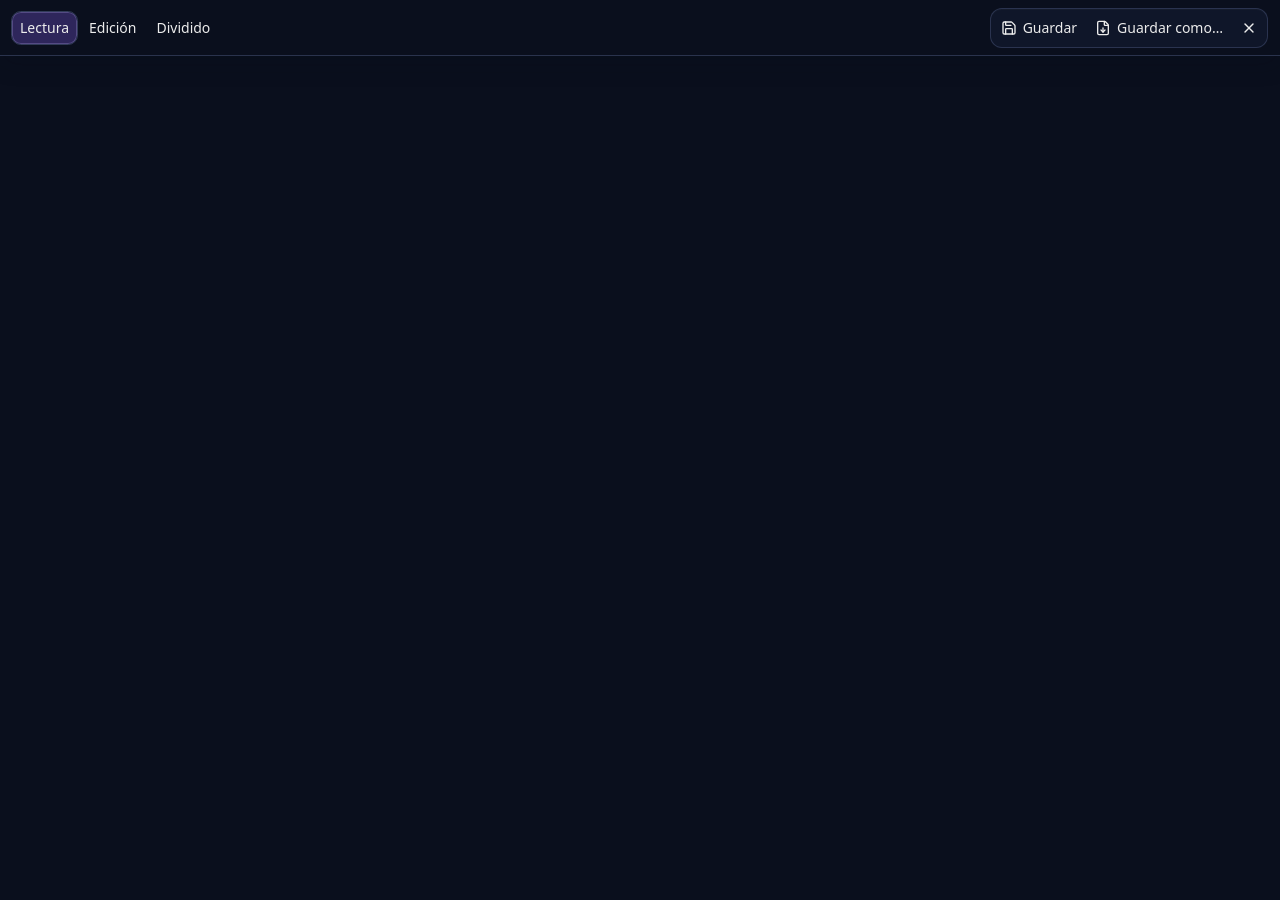
Scenario: Guardar como… (Fase 17) › Markdown: guarda el texto actual pidiendo destino (nuevoDestino)
This screenshot has width=1280, height=900.
Click the button "Guardar como…" at [1159, 28], box [1087,12,1231,44]
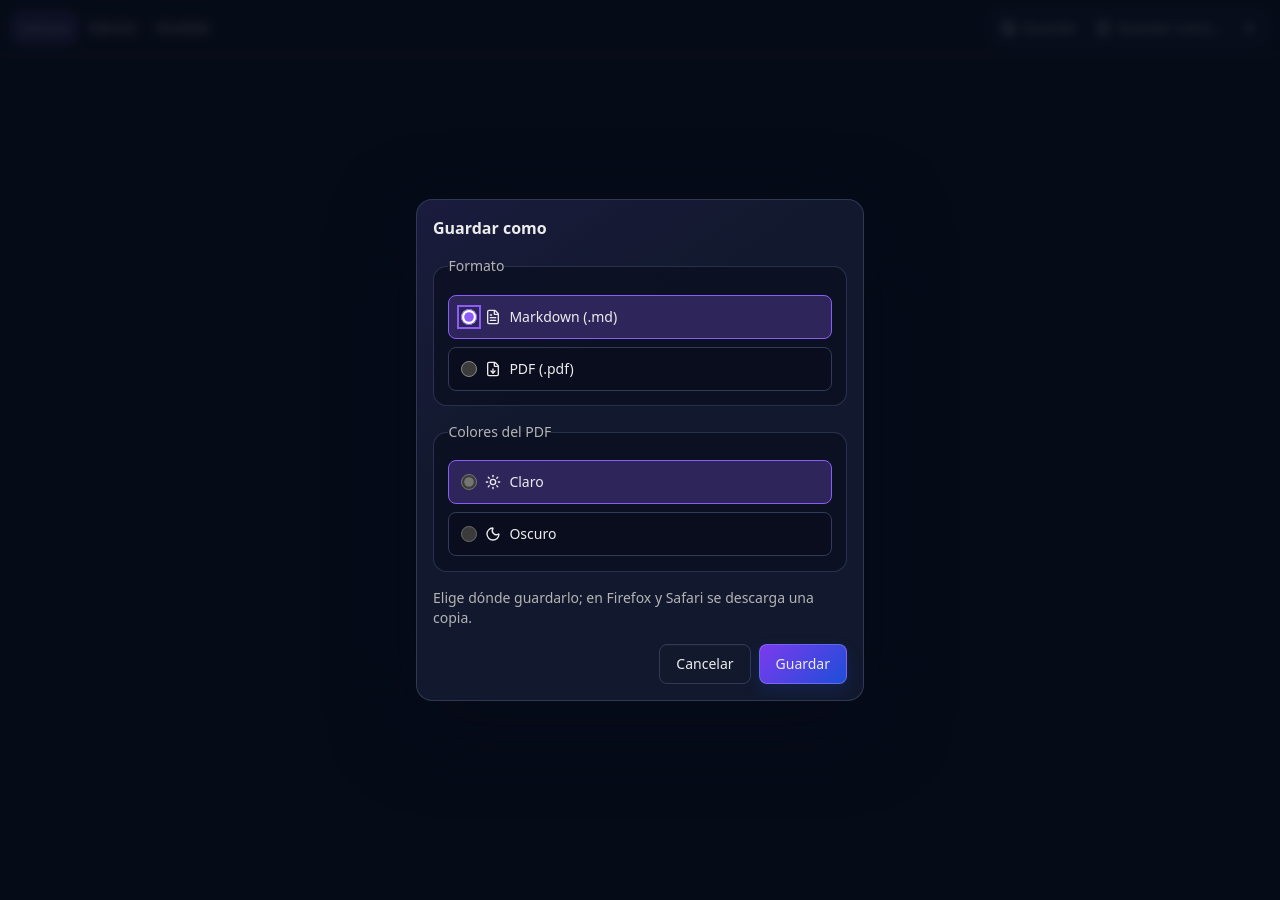
Click the button "Guardar" at [803, 664], box [758,644,847,684]
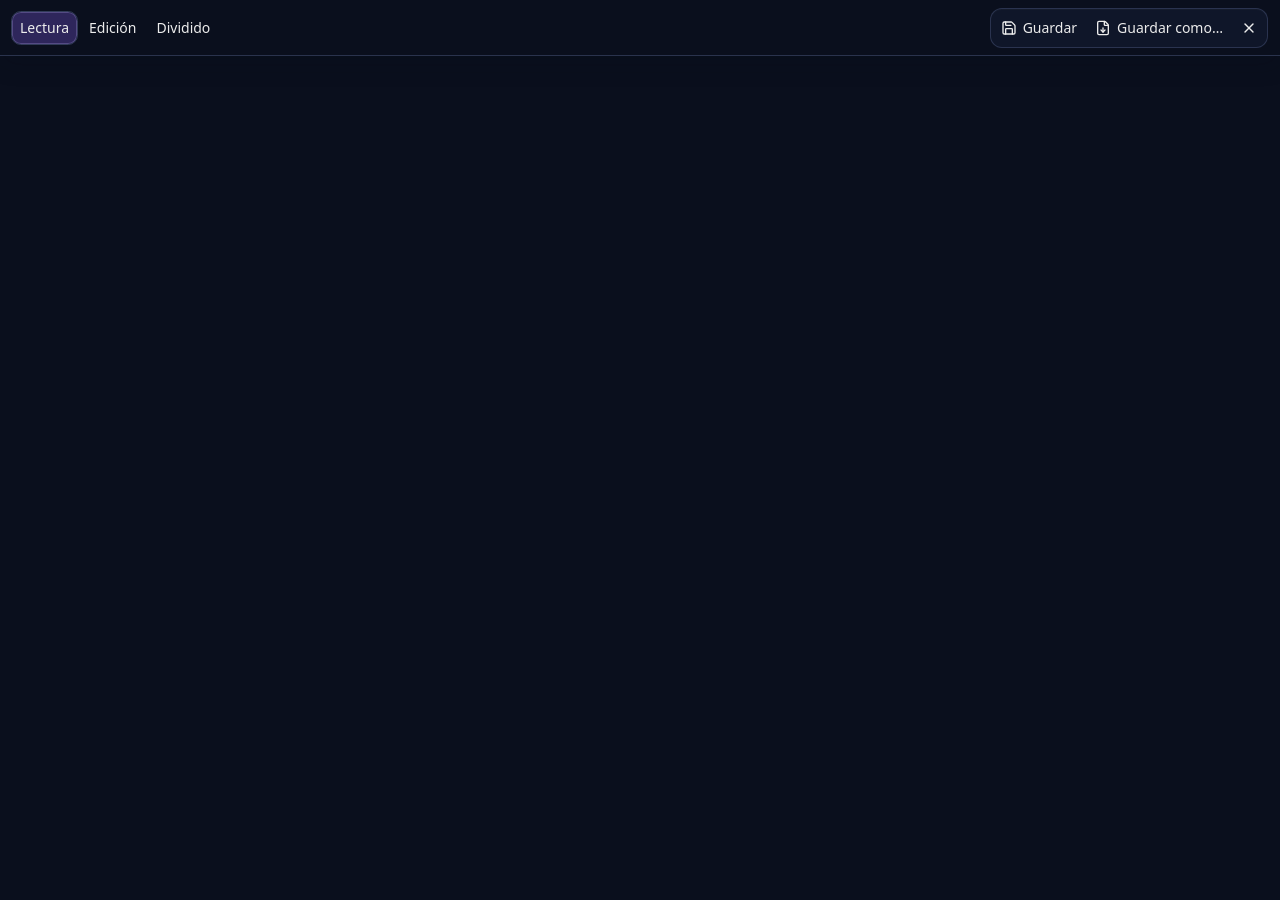
Expected: the dialog is gone
